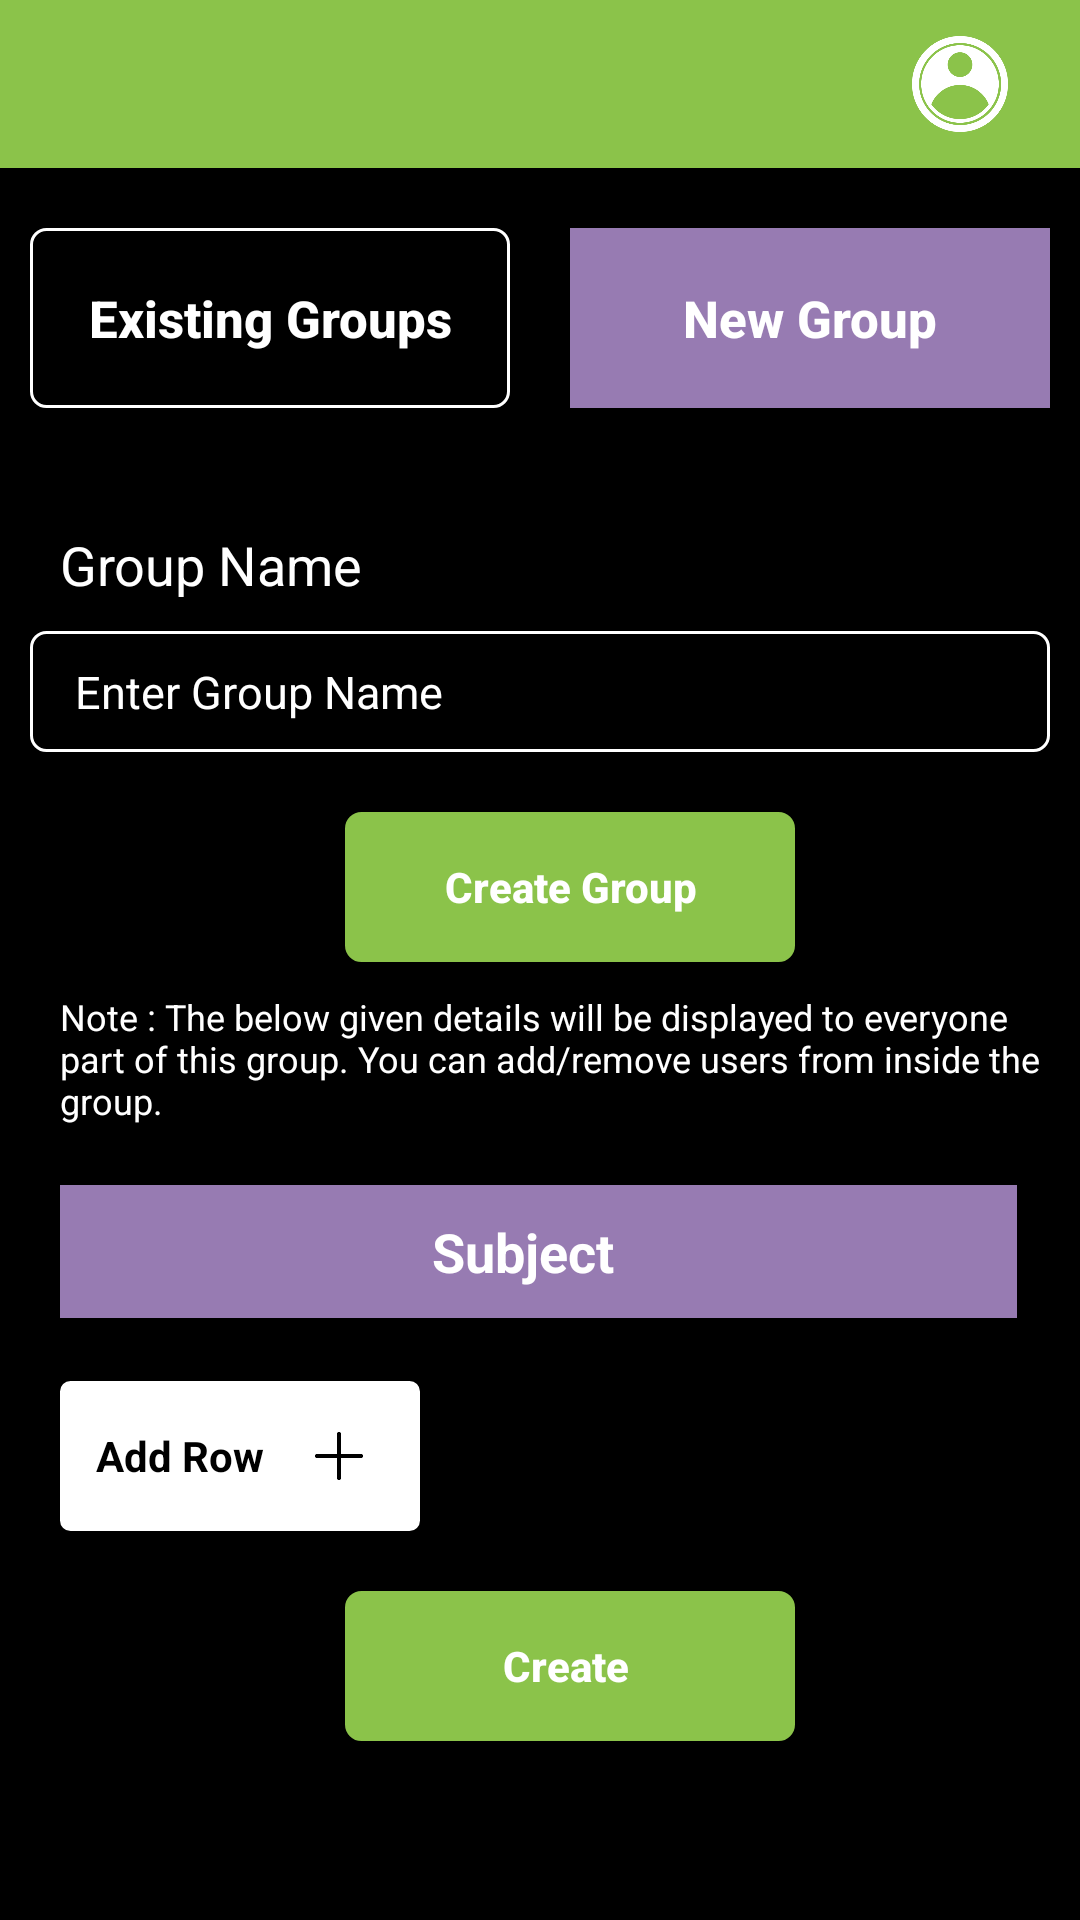

Locate icon controls on the screen. Image size 1080w x 1920h, boxes as (x1, y1, x2, y2).
plus: (315, 1432, 363, 1480)
userima: (912, 36, 1008, 132)
